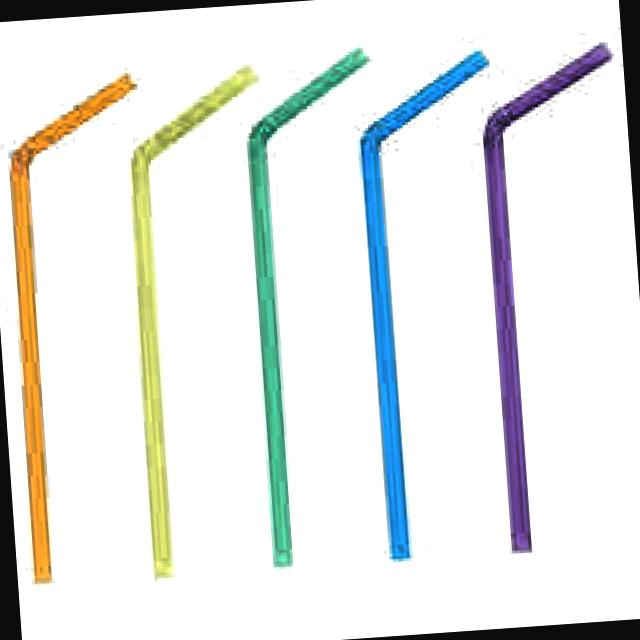plastic straw: (360, 51, 483, 560), (484, 43, 606, 550), (131, 67, 252, 576), (11, 75, 129, 582), (247, 48, 362, 566)
